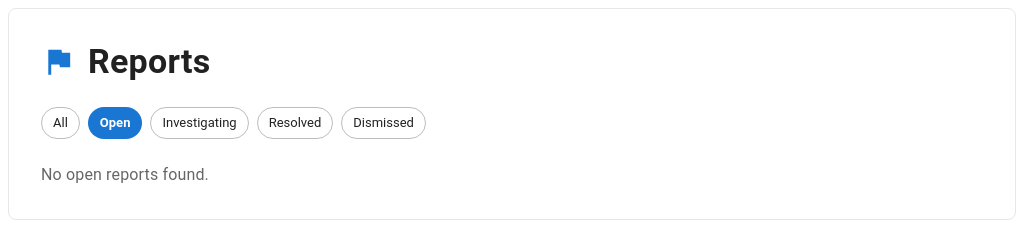
ReportsPage › shows a filter-specific empty state when a status filter is active
Expected: the text "No open reports found." is shown, top-left (41, 165), bottom-right (209, 184)
Click the button "Resolved".
click(295, 123)  # box top-left (257, 107), bottom-right (333, 139)
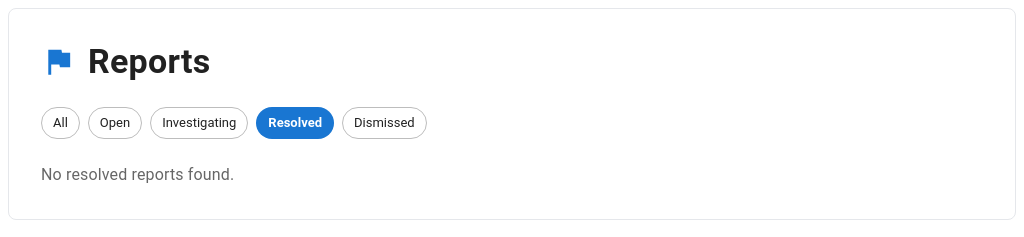
Result: the text "No resolved reports found." is shown at top-left (41, 165), bottom-right (234, 184)
